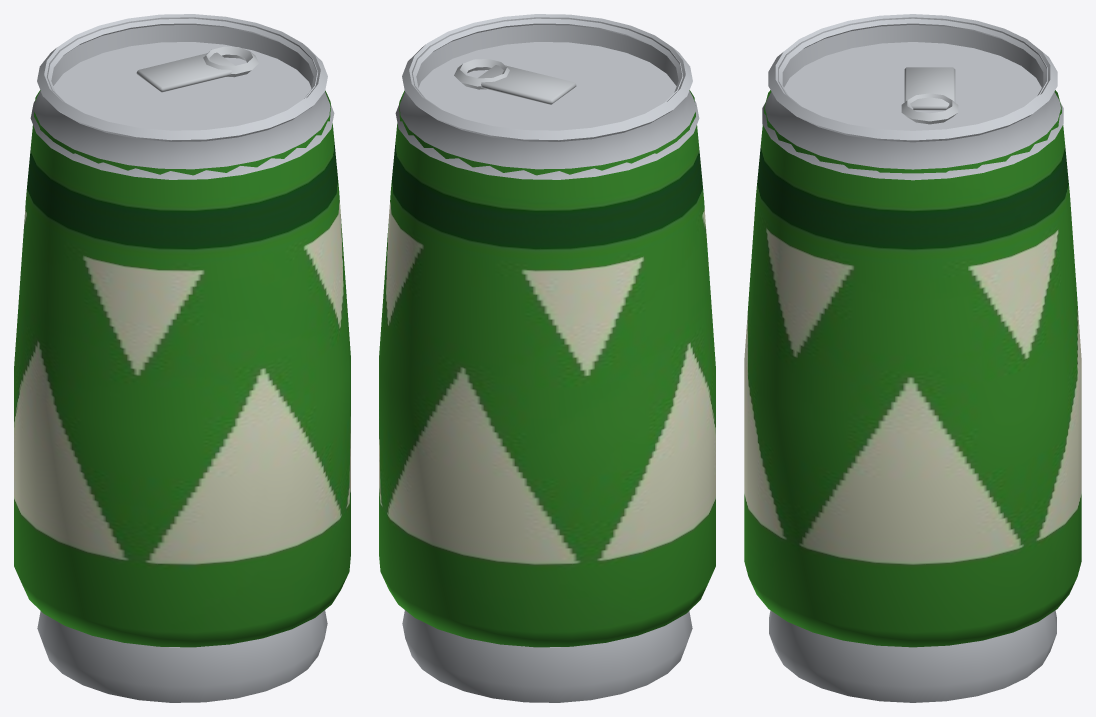
The model's file is can_lime_fizz.glb.
3 renders of one model, left to right at view 1: azimuth 30°, elevation 25°; view 2: azimuth 150°, elevation 25°; view 3: azimuth 270°, elevation 25°, orthographic.
Visible parts, largest first — view 1: can_lime_fizz; view 2: can_lime_fizz; view 3: can_lime_fizz.
Boxes of the visible parts, x1,y1,x2,y2 form: can_lime_fizz: (14,14,350,702); can_lime_fizz: (379,14,715,702); can_lime_fizz: (744,14,1081,702).
Bounding box in the file's own units: 0.066 × 0.1234 × 0.066.
4 materials, 1 textured.
